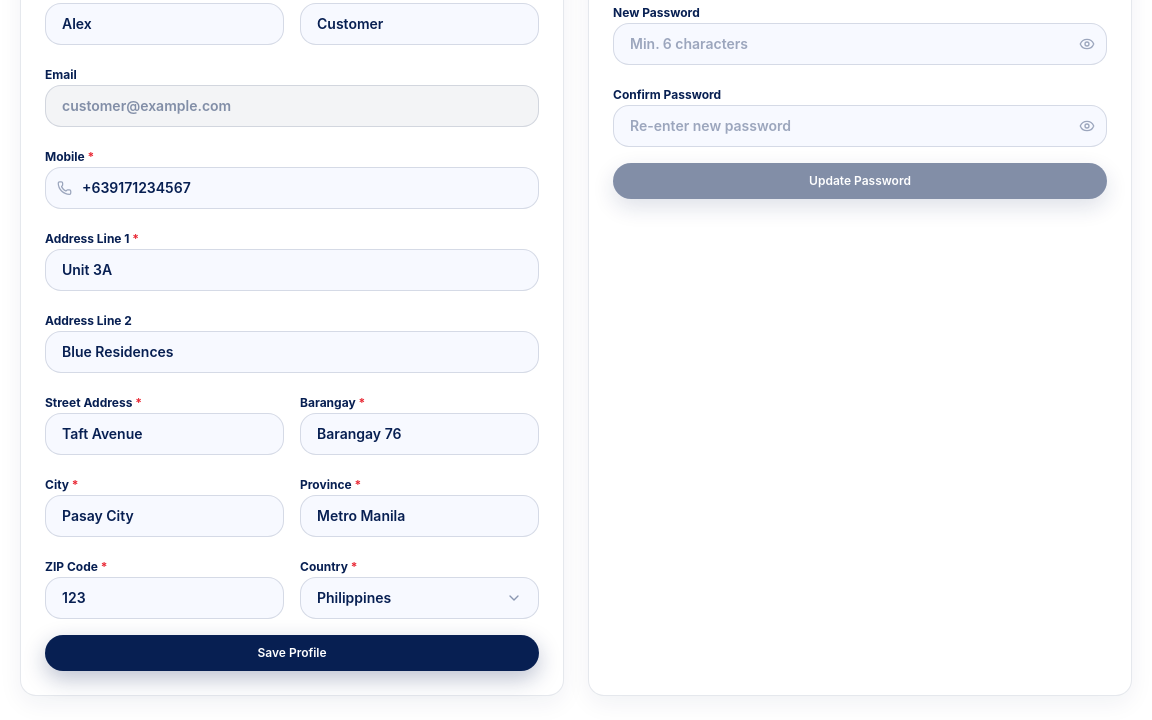
Scenario: Profile › marks a ZIP code red when it is not four digits
(page scrolled)
Step 1. Click the button "Save Profile" → point(292, 653), box [45,635,539,671]
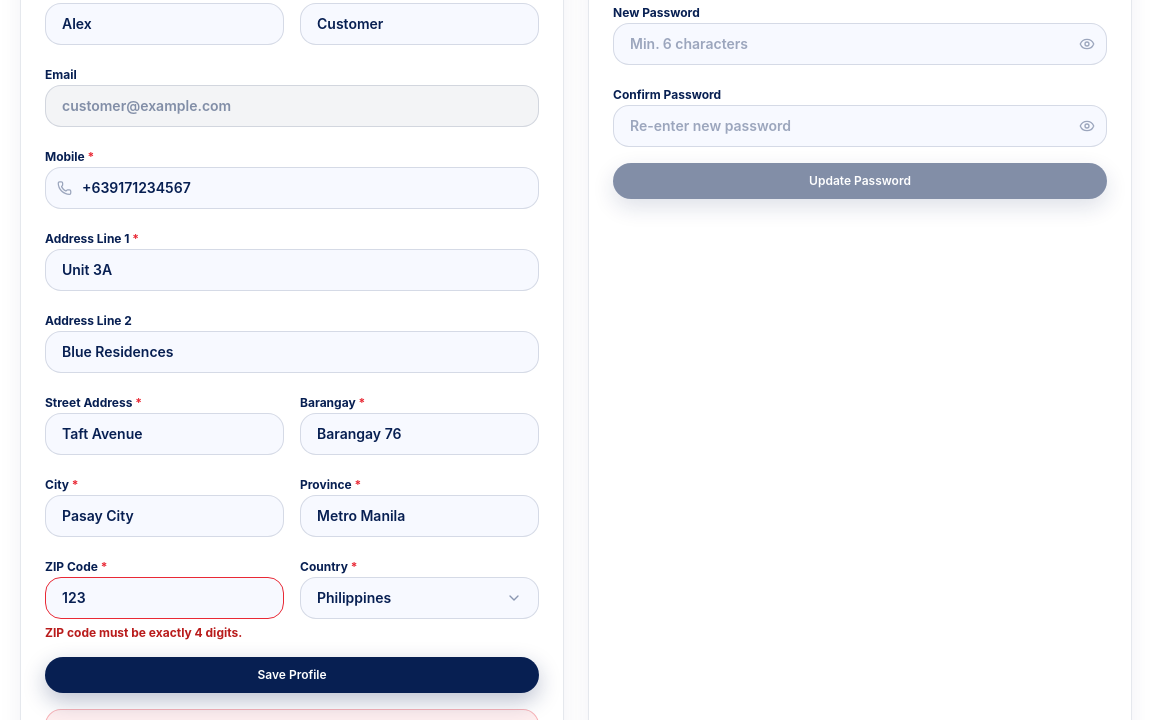
Expected: the text "ZIP code must be exactly 4 digits." is shown, [45,625,242,640]
